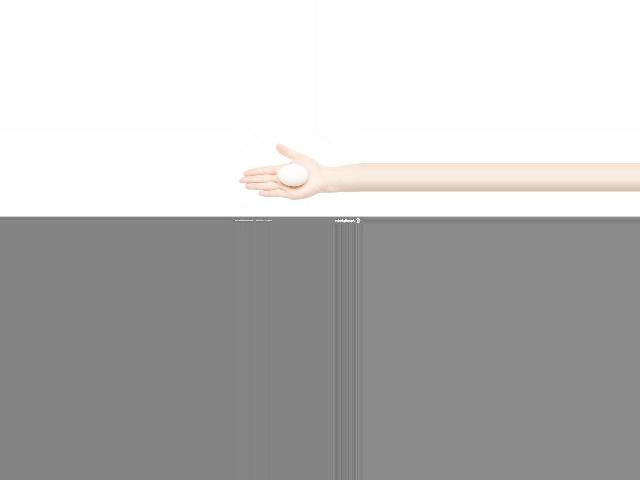egg: (277, 165, 307, 185)
